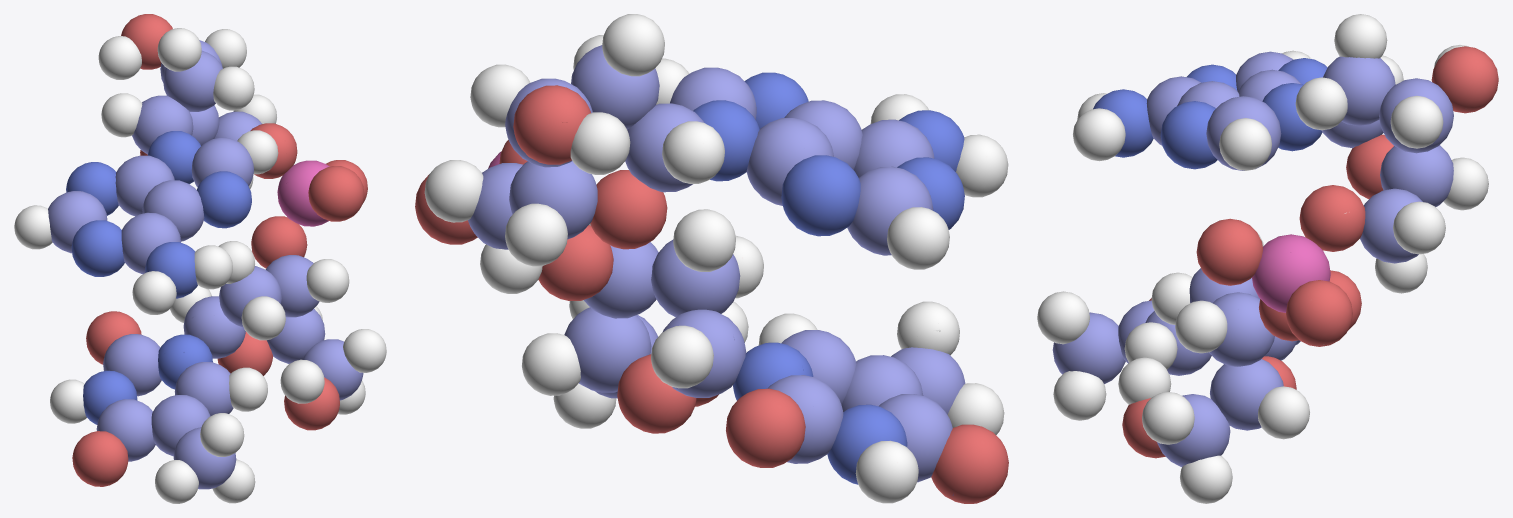
Rendered from 3rec.fbx.
3 renders of one model, left to right at view 1: azimuth 30°, elevation 25°; view 2: azimuth 150°, elevation 25°; view 3: azimuth 270°, elevation 25°, orthographic. The views are drawn at different scales.
Parts seen in each view (by area): view 1: 3rec; view 2: 3rec; view 3: 3rec.
Boxes of the visible parts, box(x1,y1,x2,y2) form: 3rec: box(14, 14, 386, 503); 3rec: box(415, 14, 1008, 503); 3rec: box(1037, 14, 1498, 503).
Bounding box in the file's own units: 11.14 × 10.98 × 10.45.
1 material, 1 textured.
